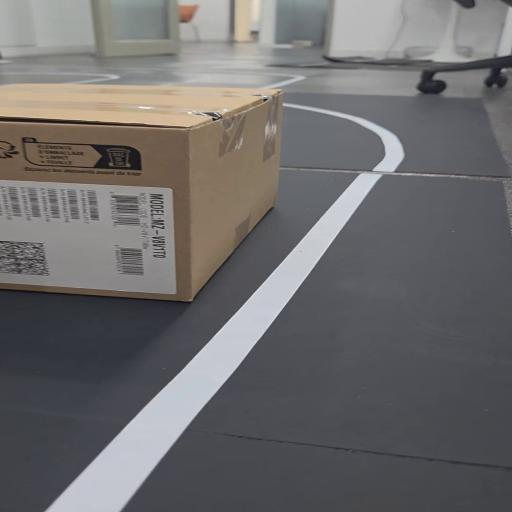Box: (3, 78, 279, 308)
